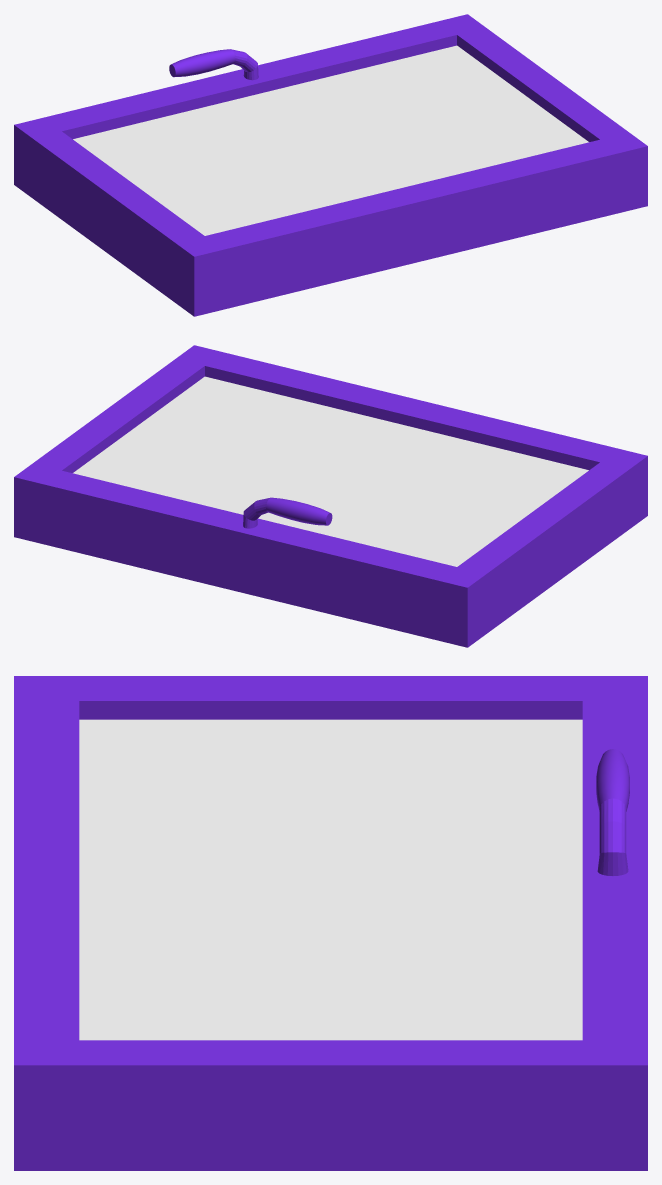
The model's file is fenetre.FBX.
3 renders of one model, top to bottom at view 1: azimuth 30°, elevation 25°; view 2: azimuth 150°, elevation 25°; view 3: azimuth 270°, elevation 25°, orthographic. The views are drawn at different scales.
Parts seen in each view (by area): view 1: fenêtre; view 2: fenêtre; view 3: fenêtre.
Part boxes in pixels (box(x1,y1,x2,y2)): fenêtre: box(14, 14, 647, 316); fenêtre: box(14, 345, 647, 647); fenêtre: box(14, 676, 647, 1170).
Bounding box in the file's own units: 753 × 149 × 518.
